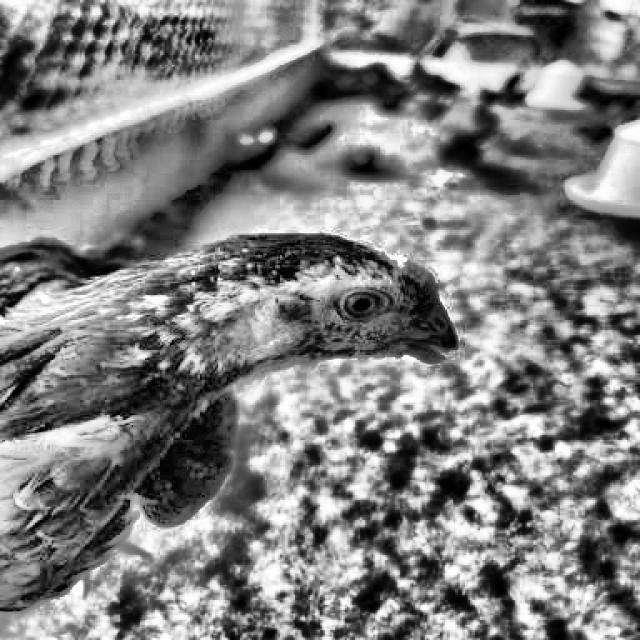Healthy: (322, 285, 402, 333)
